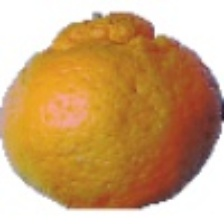tangerine: (56, 28, 213, 174)
